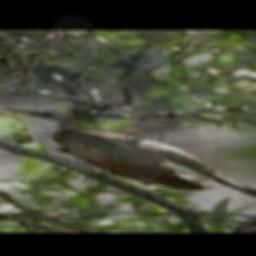Cuckoo: (0, 109, 256, 202)
